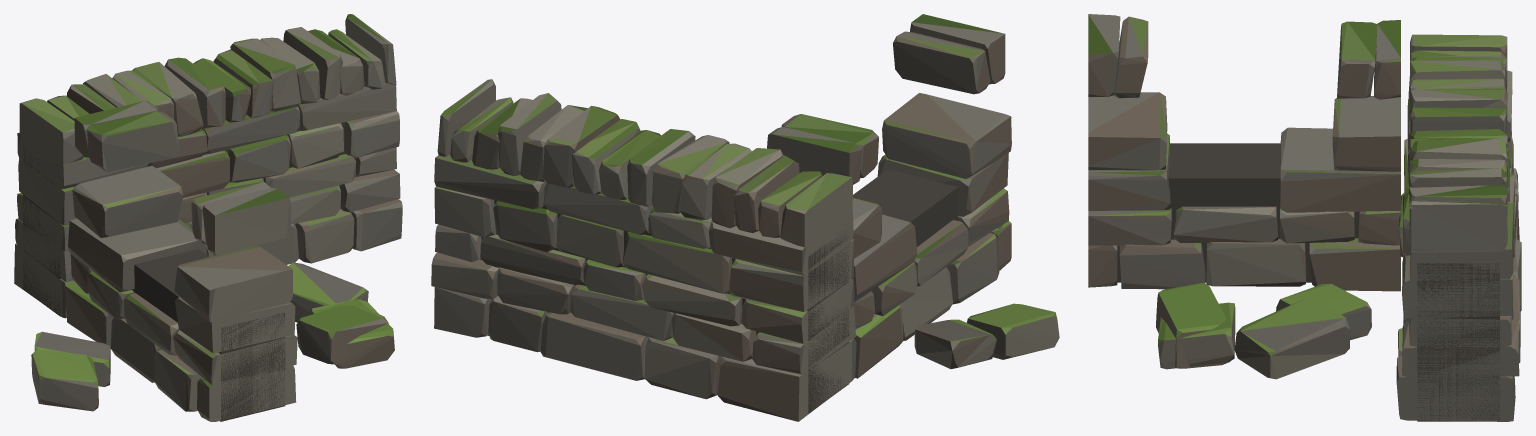
Rendered from wall_corner_broken.glb.
The picture shows the model from 3 angles, left to right: view 1: azimuth 30°, elevation 25°; view 2: azimuth 150°, elevation 25°; view 3: azimuth 270°, elevation 25°; orthographic projection. The views are drawn at different scales.
Parts seen in each view (by area): view 1: orchard_wall_corner_broken_Stone; view 2: orchard_wall_corner_broken_Stone; view 3: orchard_wall_corner_broken_Stone.
Boxes of the visible parts, x1=… form: orchard_wall_corner_broken_Stone: x1=14, y1=14, x2=402, y2=421; orchard_wall_corner_broken_Stone: x1=431, y1=14, x2=1059, y2=421; orchard_wall_corner_broken_Stone: x1=1088, y1=14, x2=1521, y2=421.
Size of the model in its own units: 3.04 by 1.46 by 2.34.
